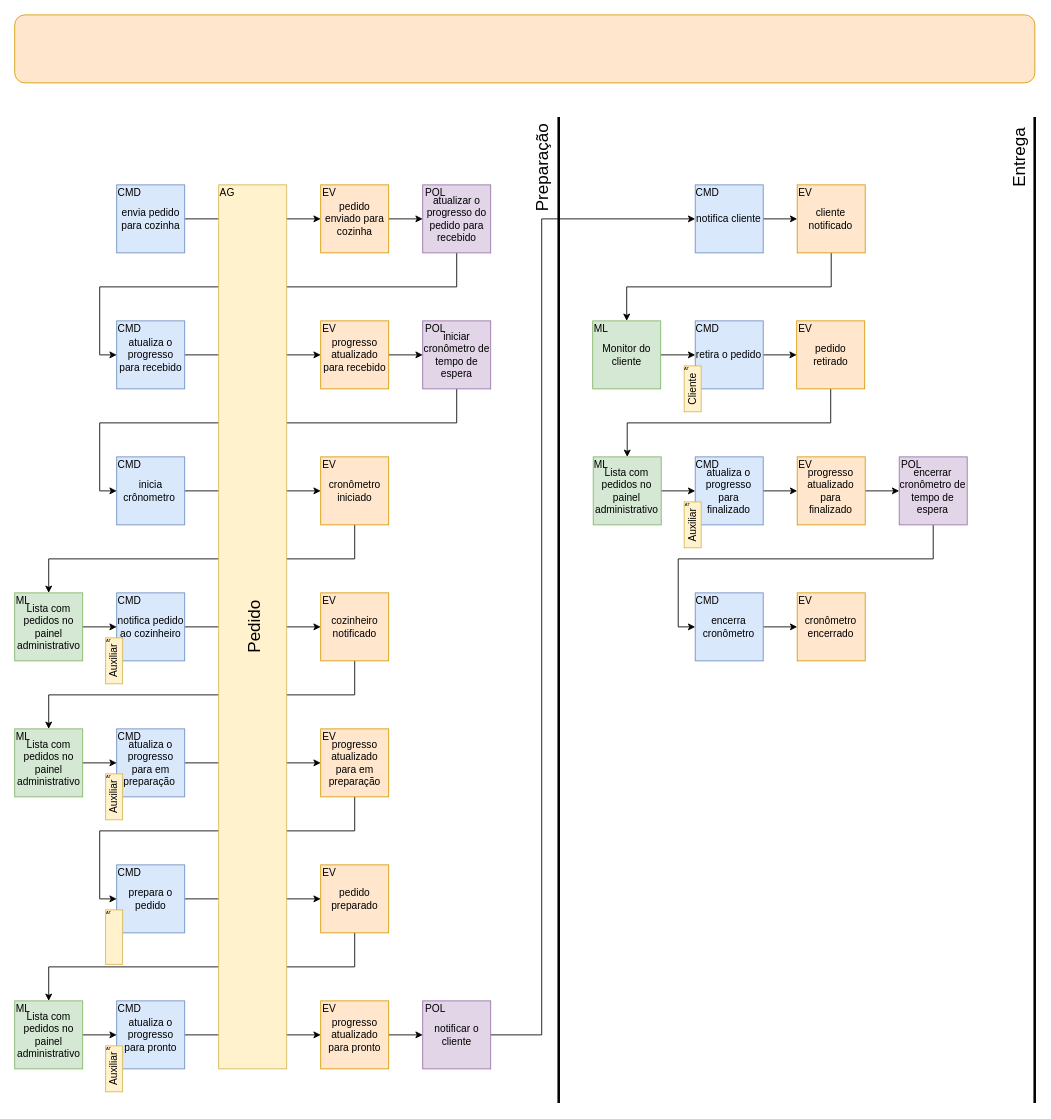
Some shapes in this 1051 by 1119 pixel diagram are drawn without their labels. The shapes that lost their labels are listed below. From the top down, each one's centre as x and y in pixels, then its label:
(524,48): Preparação e entrega do pedido
(114,936): Cozinheiro
